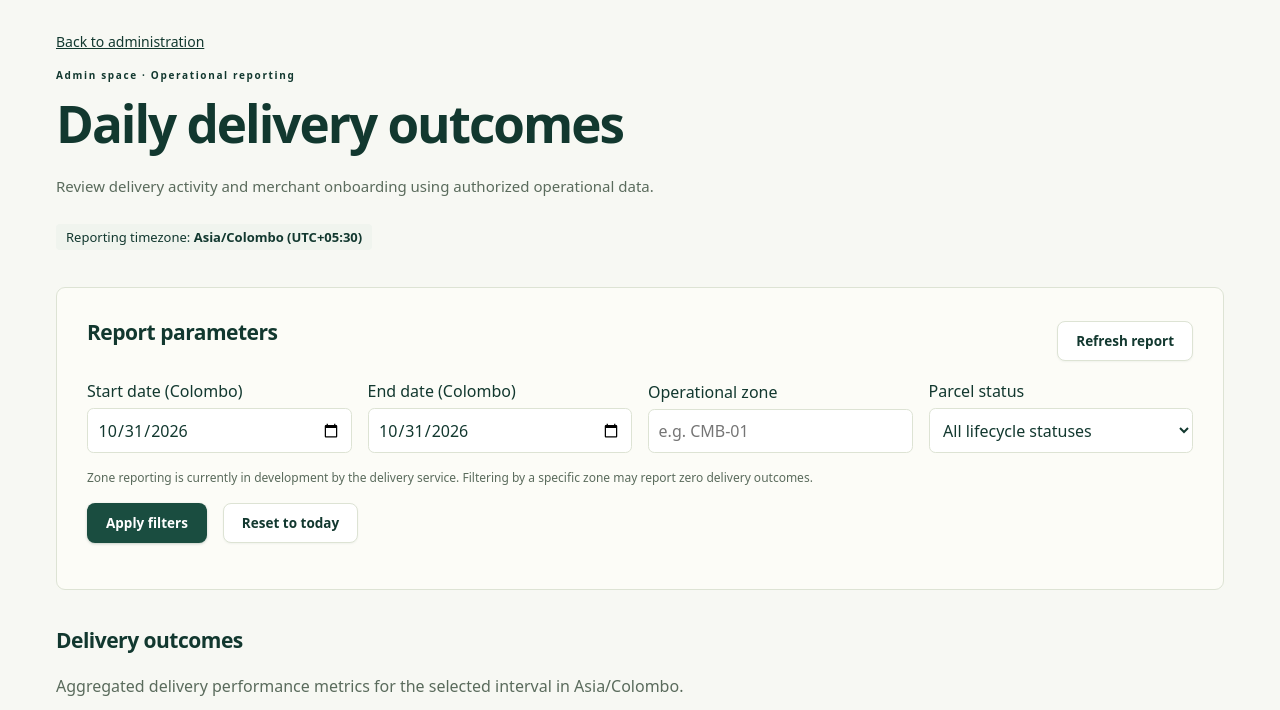
Test: AdminReportsPage — Filters & Bounded Inputs › displays validation error if range exceeds 90 calendar days
Expected: the heading "Daily delivery outcomes" is shown, [56, 88, 623, 158]
Type "2026-01-01" into the date field labelled "Start date (Colombo)" at [219, 430], box [87, 408, 352, 453]
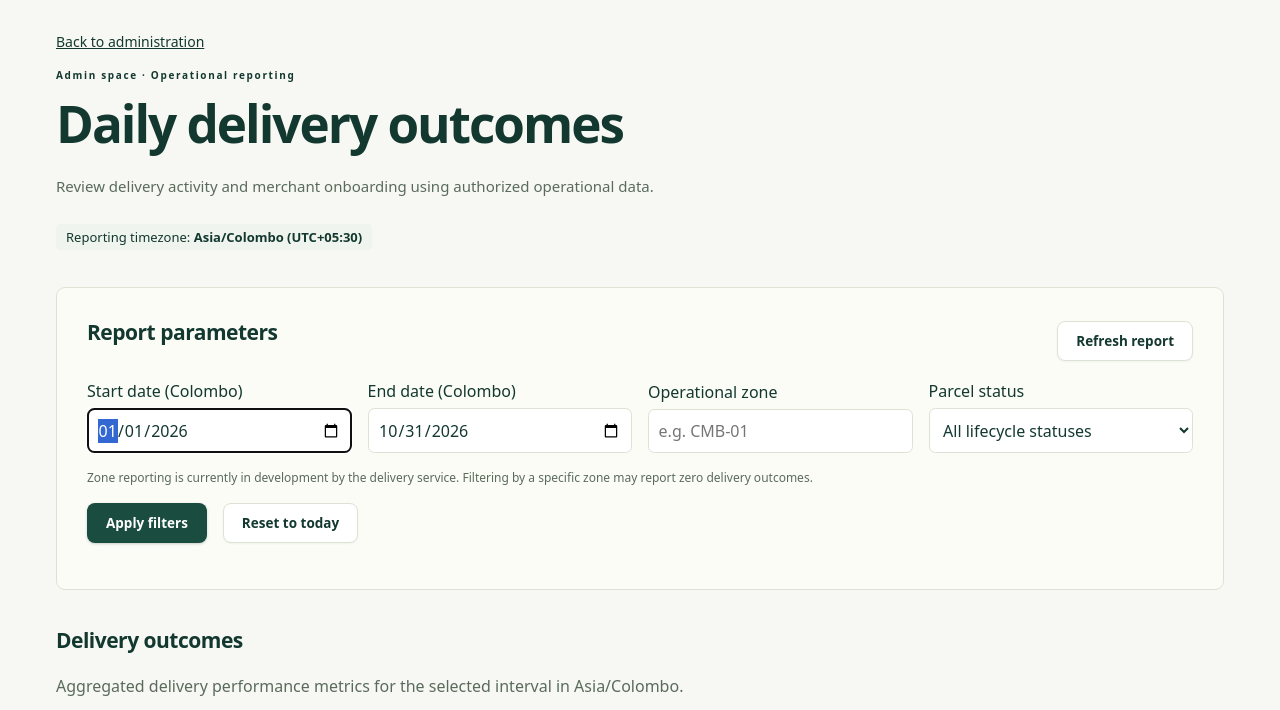
Type "2026-04-15" into the date field labelled "End date (Colombo)" at [500, 430], box [368, 408, 632, 453]
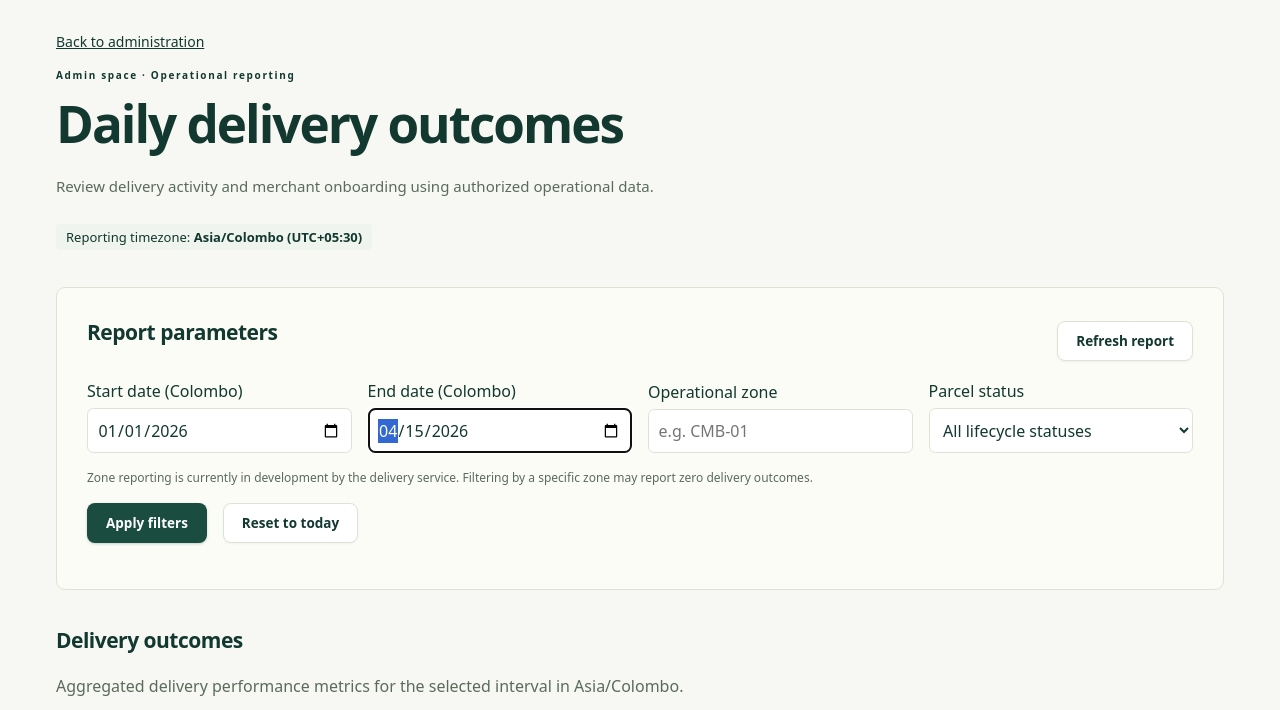
Click the button "Apply filters" at [147, 523], box [87, 503, 207, 543]
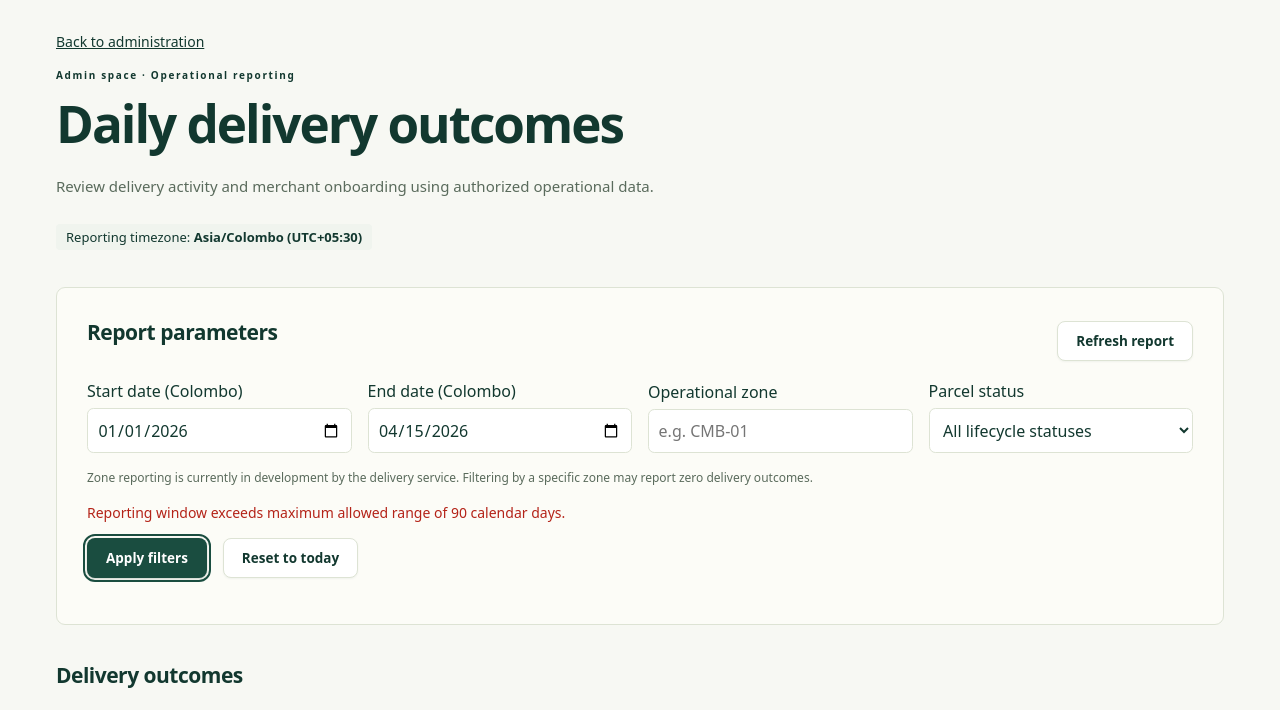
Expected: the message reads "Reporting window exceeds maximum allowed range of 90 calendar days.", [87, 503, 565, 522]
